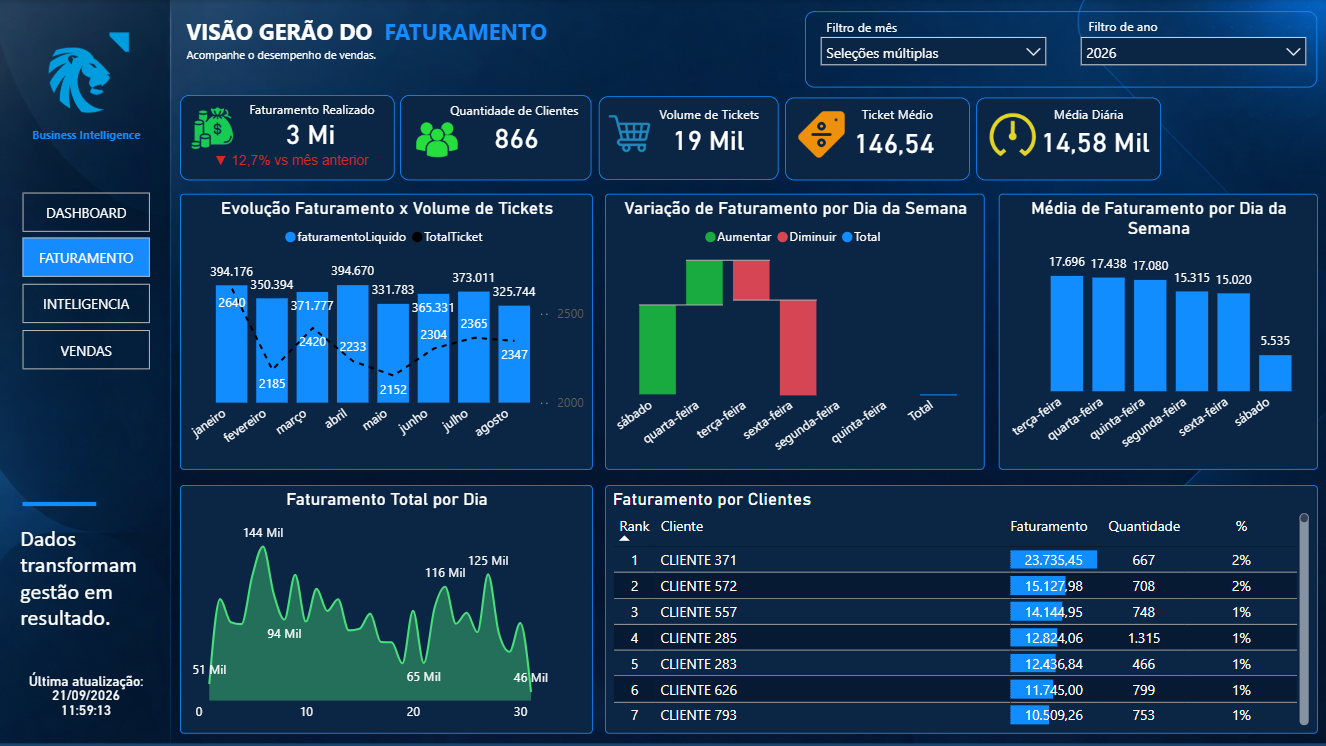

The page's visual inventory and layout, read from the dashboard file:
{"tool":"powerbi","page":{"name":"FATURAMENTO","canvas":[1280,720],"ordinal":1},"visuals":[{"type":"textbox","box":[776.9,10.9,494.6,73.6],"z":0},{"type":"textbox","box":[577.8,92.9,173.7,80.8],"z":1000},{"type":"card","title":"Volume (Kg)","fields":{"Values":["medidasTicketMedio.TotalTicket"]},"box":[599.1,111.2,168.9,47.1],"z":2000},{"type":"image","box":[587,100.5,39.8,57.9],"z":3000},{"type":"textbox","box":[611.1,95.5,146,36.2],"z":4000},{"type":"textbox","box":[174.2,91.5,207.5,82],"z":5000},{"type":"card","title":"Total Spent","fields":{"Values":["medidasFaturamento.faturamentoLiquido"]},"box":[218.5,100.7,163,56.4],"z":6000},{"type":"textbox","box":[214.4,91,173,32.6],"z":7000},{"type":"textbox","box":[757.8,94.1,178.6,79.6],"z":8000},{"type":"card","title":"Total Spent","fields":{"Values":["medidasTicketMedio.TicketMedio"]},"box":[781.8,114.1,162.9,45.8],"z":9000},{"type":"textbox","box":[796,94.8,139.9,36.2],"z":10000},{"type":"image","box":[764.6,106.9,55.5,44.6],"z":11000},{"type":"textbox","box":[386,91.7,184.6,82],"z":12000},{"type":"card","title":"Volume (Kg)","fields":{"Values":["medidasClientes.QuantidadeClientes"]},"box":[422.9,105.2,150.8,55.5],"z":13000},{"type":"image","box":[401.2,106.4,39.8,57.9],"z":14000},{"type":"textbox","box":[422.4,92.3,148.4,36.2],"z":15000},{"type":"image","box":[173.9,104.2,62.7,39.8],"z":16000},{"type":"card","title":"Total Spent","fields":{"Values":["medidasFaturamento.Card Crescimento Faturamento"]},"box":[179.4,140.9,203.1,31.3],"z":17000},{"type":"slicer","fields":{"Values":["Calendario.Ano"]},"box":[1032.7,25.3,238.2,49.2],"z":18000},{"type":"slicer","fields":{"Values":["Calendario.Nome do Mês"]},"box":[781.8,25.3,238.2,49.2],"z":19000},{"type":"textbox","box":[174.9,10.9,376.4,39.8],"z":20000},{"type":"textbox","box":[174.9,37.4,287.4,40.1],"z":21000},{"type":"lineClusteredColumnComboChart","title":"Evolução Faturamento x Volume de Tickets","fields":{"Category":["Calendario.Nome do Mês"],"Y":["medidasFaturamento.faturamentoLiquido"],"Y2":["medidasTicketMedio.TotalTicket"]},"box":[173.7,187,398.1,266.6],"z":22000},{"type":"lineClusteredColumnComboChart","title":"Média de Faturamento por Dia da Semana","fields":{"Category":["Ticket Medio.Nome do Dia"],"Y":["medidasTicketMedio.Média Faturamento por Dia da Semana"]},"box":[963.9,187,307.6,266.6],"z":23000},{"type":"lineChart","title":"Faturamento Total por Dia","fields":{"Category":["Ticket Medio.Dia"],"Y":["medidasTicketMedio.TotalVenda"]},"box":[173.7,468.1,398.1,240.1],"z":24000},{"type":"tableEx","title":"Faturamento por Clientes","fields":{"Values":["medidasClientes.RankingClientes","Clientes.Nome do cliente","Sum(Clientes.Valor bruto do item)","Sum(Clientes.Quantidade)","medidasClientes.Participacao Cliente"]},"box":[583.9,468.1,687.7,240.1],"z":25000},{"type":"textbox","box":[942.4,94.1,178.6,79.6],"z":26000},{"type":"card","title":"Total Spent","fields":{"Values":["medidasTicketMedio.Média Faturamento por Dia da Semana"]},"box":[975.7,113.9,162.9,45.8],"z":27000},{"type":"textbox","box":[980.9,95.1,139.9,36.2],"z":28000},{"type":"image","box":[949.5,107.2,55.5,44.6],"z":29000},{"type":"waterfallChart","title":"Variação de Faturamento por Dia da Semana","fields":{"Category":["DiasSemana.NomeDia"],"Y":["medidasTicketMedio.Variação Faturamento Dia Semana"]},"box":[583.9,187,366.8,266.6],"z":30000},{"type":"textbox","box":[776.9,12.1,109.8,37.4],"z":40000},{"type":"textbox","box":[1029.1,10.9,109.8,37.4],"z":41000},{"type":"textbox","box":[19.3,114.6,127.9,39.8],"z":41001},{"type":"pageNavigator","box":[21.7,185.8,123.1,38.6],"z":41002},{"type":"pageNavigator","box":[21.7,229.2,123.1,38.6],"z":41003},{"type":"pageNavigator","box":[21.7,273.9,123.1,38.6],"z":41004},{"type":"pageNavigator","box":[21.7,318.5,123.1,38.6],"z":41005},{"type":"card","title":"Volume (Kg)","fields":{"Values":["medidasClientes.Última Atualização"]},"box":[21.7,627.3,123.1,91.7],"z":41006},{"type":"image","box":[12.1,3.6,147.2,132.7],"z":41007},{"type":"textbox","box":[14.5,501.9,153,116],"z":41008},{"type":"shape","box":[21.7,470.5,71.4,31.9],"z":41009}]}

Visuals, with their boxes in screenshot pixels (x1, y1, x2, y2), scaled from the page's 1280x720 canvas onto the 1326x746 screenshot:
textbox: crop(805, 11, 1317, 88)
textbox: crop(599, 96, 779, 180)
"Volume (Kg)" card: crop(621, 115, 796, 164)
image: crop(608, 104, 649, 164)
textbox: crop(633, 99, 784, 136)
textbox: crop(180, 95, 395, 180)
"Total Spent" card: crop(226, 104, 395, 163)
textbox: crop(222, 94, 401, 128)
textbox: crop(785, 97, 970, 180)
"Total Spent" card: crop(810, 118, 979, 166)
textbox: crop(825, 98, 970, 136)
image: crop(792, 111, 850, 157)
textbox: crop(400, 95, 591, 180)
"Volume (Kg)" card: crop(438, 109, 594, 167)
image: crop(416, 110, 457, 170)
textbox: crop(438, 96, 591, 133)
image: crop(180, 108, 245, 149)
"Total Spent" card: crop(186, 146, 396, 178)
slicer - Calendario.Ano: crop(1070, 26, 1317, 77)
slicer - Calendario.Nome do Mês: crop(810, 26, 1057, 77)
textbox: crop(181, 11, 571, 53)
textbox: crop(181, 39, 479, 80)
"Evolução Faturamento x Volume de Tickets" lineClusteredColumnComboChart: crop(180, 194, 592, 470)
"Média de Faturamento por Dia da Semana" lineClusteredColumnComboChart: crop(999, 194, 1317, 470)
"Faturamento Total por Dia" lineChart: crop(180, 485, 592, 734)
"Faturamento por Clientes" tableEx: crop(605, 485, 1317, 734)
textbox: crop(976, 97, 1161, 180)
"Total Spent" card: crop(1011, 118, 1180, 165)
textbox: crop(1016, 99, 1161, 136)
image: crop(984, 111, 1041, 157)
"Variação de Faturamento por Dia da Semana" waterfallChart: crop(605, 194, 985, 470)
textbox: crop(805, 13, 919, 51)
textbox: crop(1066, 11, 1180, 50)
textbox: crop(20, 119, 152, 160)
pageNavigator: crop(22, 193, 150, 233)
pageNavigator: crop(22, 237, 150, 277)
pageNavigator: crop(22, 284, 150, 324)
pageNavigator: crop(22, 330, 150, 370)
"Volume (Kg)" card: crop(22, 650, 150, 745)
image: crop(13, 4, 165, 141)
textbox: crop(15, 520, 174, 640)
shape: crop(22, 487, 96, 521)
